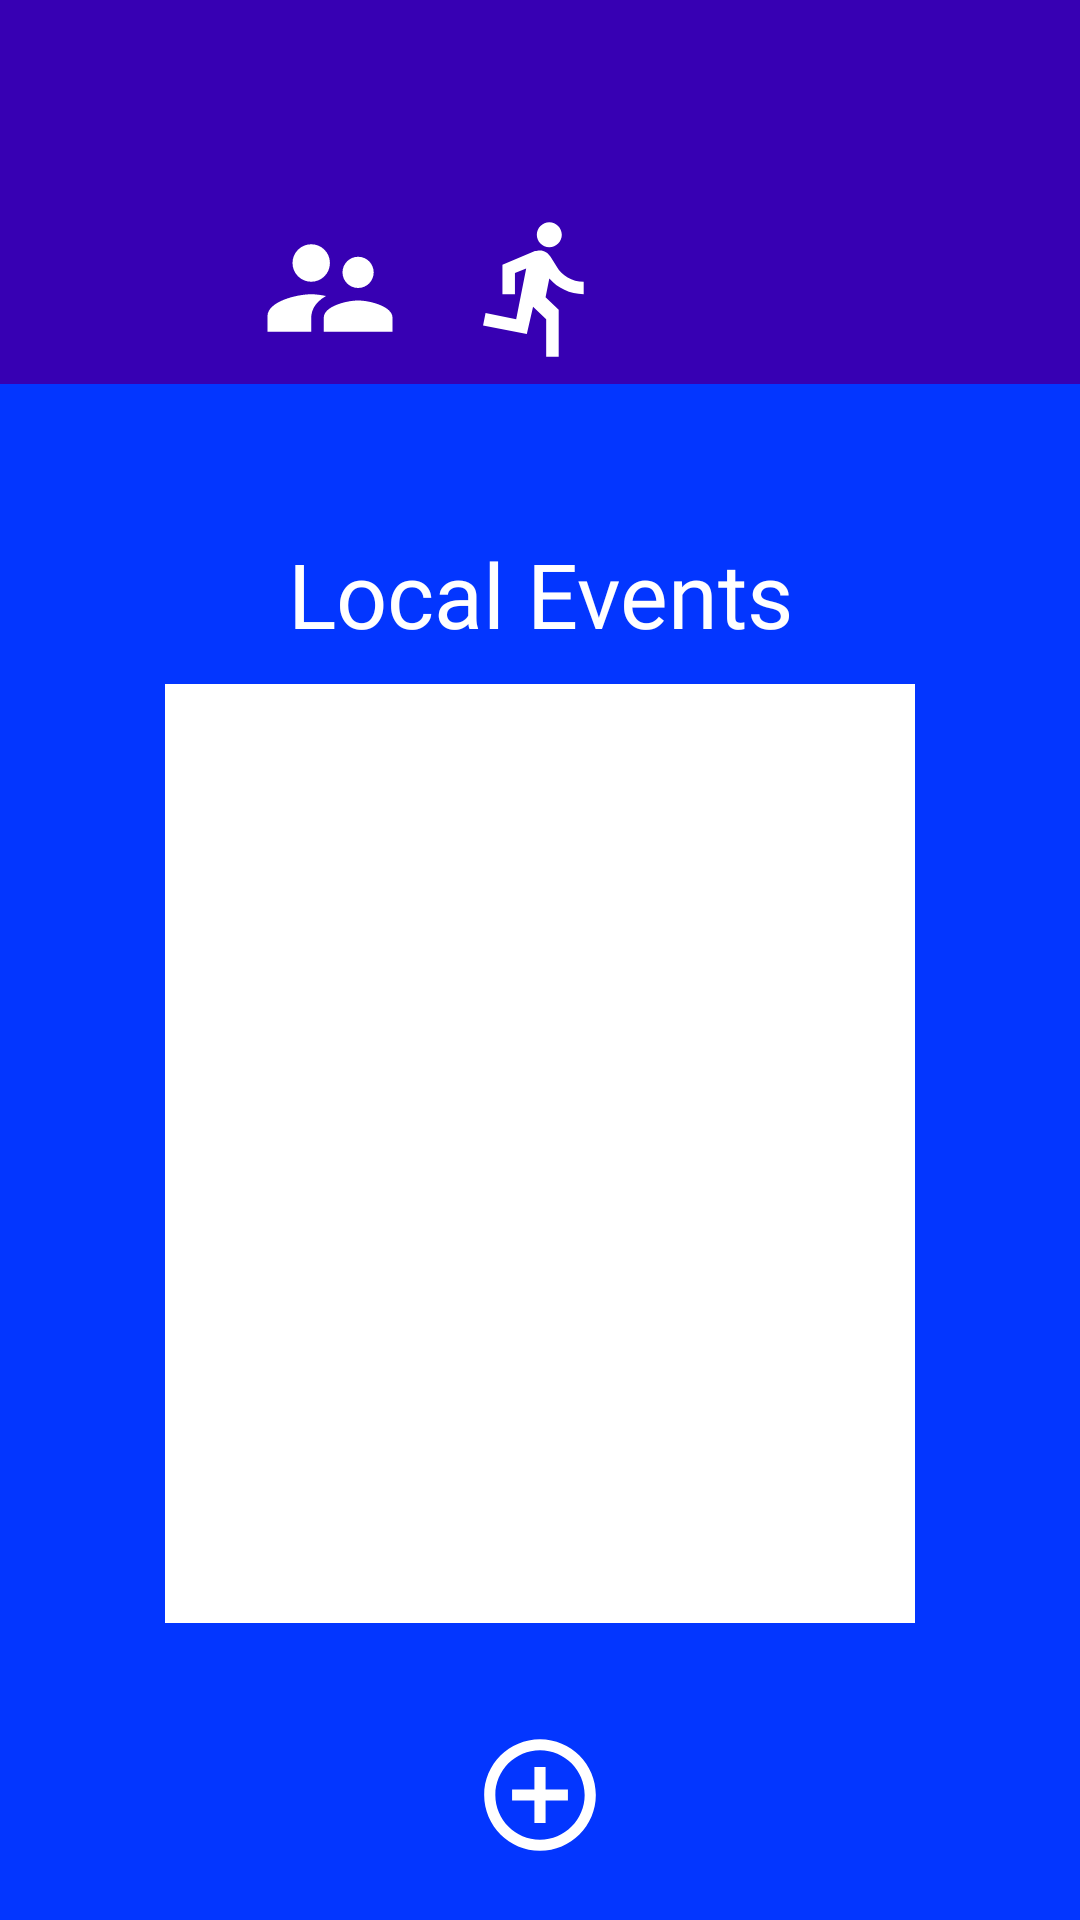

Icon click points for this 1080w x 1920h phone screenshot, format [x,y]:
add elem: [540,1795]
users: [330,288]
